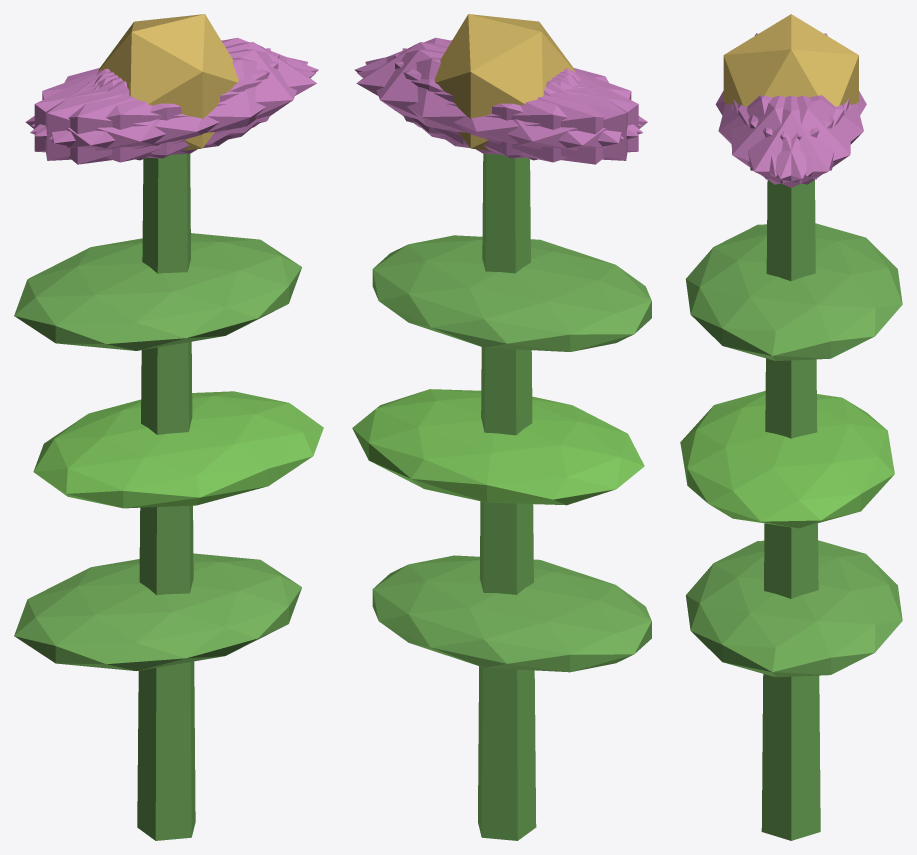
File: thunbergia-laurifolia.glb
The picture shows the model from 3 angles, left to right: view 1: azimuth 30°, elevation 25°; view 2: azimuth 150°, elevation 25°; view 3: azimuth 270°, elevation 25°; orthographic projection.
Parts seen in each view (by area): view 1: stem, leaf2, leaf1, leaf0, center, petal1, petal6, petal2, petal5, petal7, petal0, petal4 (+2 smaller); view 2: stem, leaf2, leaf0, leaf1, center, petal8, petal3, petal7, petal4, petal2, petal0, petal5 (+2 smaller); view 3: stem, leaf1, leaf2, leaf0, center, petal0, petal4, petal5, petal1, petal8.
Boxes of the visible parts, x1,y1,x2,y2 form: stem: [137, 153, 195, 840]; leaf2: [14, 233, 301, 350]; leaf1: [33, 391, 323, 508]; leaf0: [14, 553, 301, 670]; center: [97, 14, 238, 150]; petal1: [30, 57, 315, 162]; petal6: [25, 70, 232, 164]; petal2: [45, 48, 270, 160]; petal5: [49, 49, 307, 155]; petal7: [34, 54, 279, 158]; petal0: [97, 42, 316, 145]; petal4: [31, 37, 318, 136]; stem: [478, 153, 536, 840]; leaf2: [372, 235, 651, 351]; leaf0: [372, 555, 651, 672]; leaf1: [352, 389, 644, 505]; center: [434, 14, 575, 150]; petal8: [357, 57, 643, 162]; petal3: [440, 70, 647, 164]; petal7: [402, 48, 627, 160]; petal4: [365, 49, 623, 155]; petal2: [394, 54, 638, 158]; petal0: [356, 42, 575, 145]; petal5: [354, 37, 641, 136]; stem: [761, 180, 820, 840]; leaf1: [680, 391, 894, 528]; leaf2: [685, 223, 902, 360]; leaf0: [685, 540, 902, 677]; center: [723, 14, 858, 106]; petal0: [733, 95, 849, 187]; petal4: [738, 95, 850, 184]; petal5: [731, 95, 844, 184]; petal1: [718, 95, 833, 176]; petal8: [748, 95, 863, 176].
Bounding box in the file's own units: 0.1481 × 0.3971 × 0.1005.
